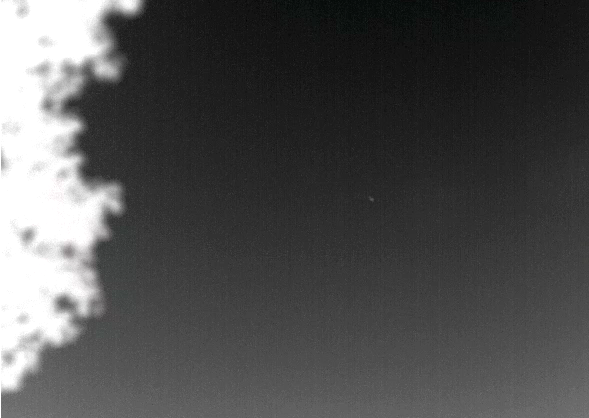dim target: (367, 195, 375, 204)
